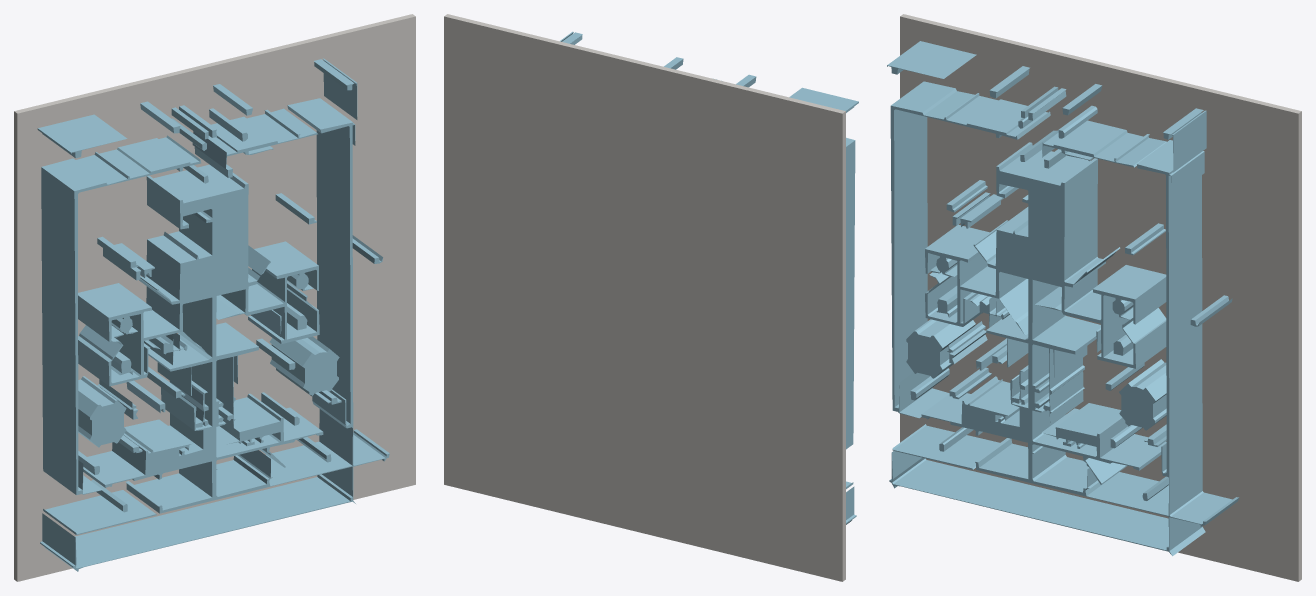
The picture shows the model from 3 angles, left to right: view 1: azimuth 30°, elevation 25°; view 2: azimuth 150°, elevation 25°; view 3: azimuth 330°, elevation 25°; orthographic projection.
Parts seen in each view (by area): view 1: world; view 2: world; view 3: world.
Boxes of the visible parts, x1,y1,x2,y2 form: world: [14, 14, 415, 581]; world: [444, 14, 858, 581]; world: [887, 14, 1301, 581].
Size of the model in its own units: 10.23 by 11.49 by 1.63.
